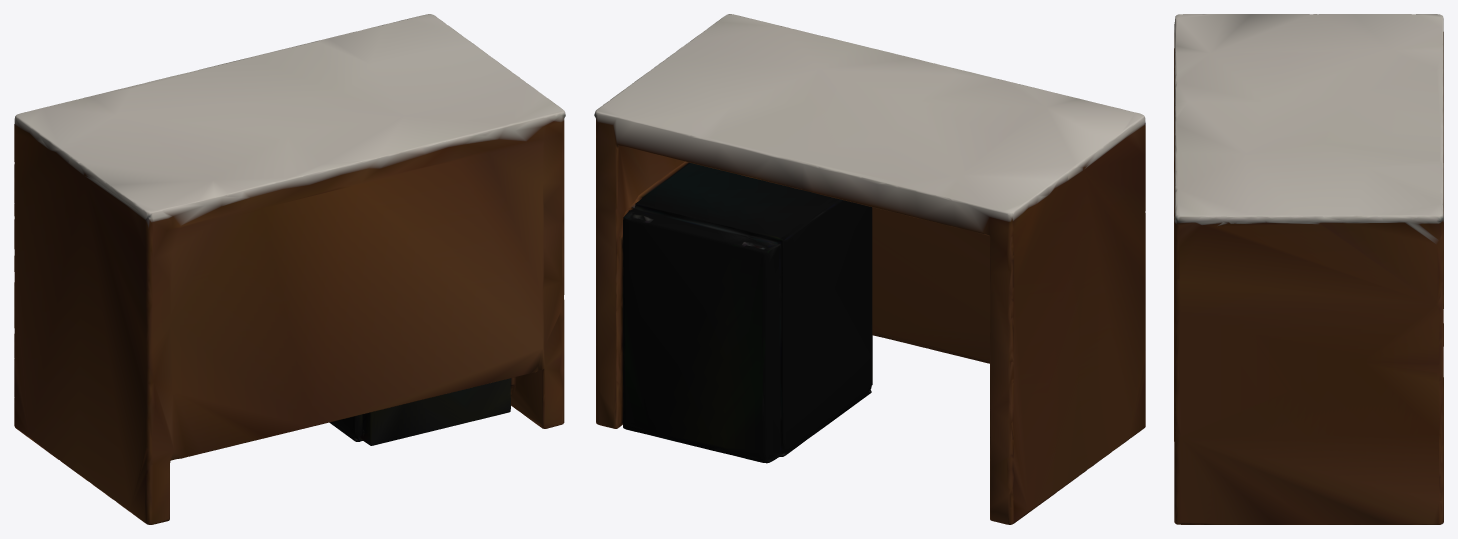
File: desk.glb
3 renders of one model, left to right at view 1: azimuth 30°, elevation 25°; view 2: azimuth 150°, elevation 25°; view 3: azimuth 270°, elevation 25°, orthographic.
Bounding box in the file's own units: 0.9992 × 0.7123 × 0.5616.
